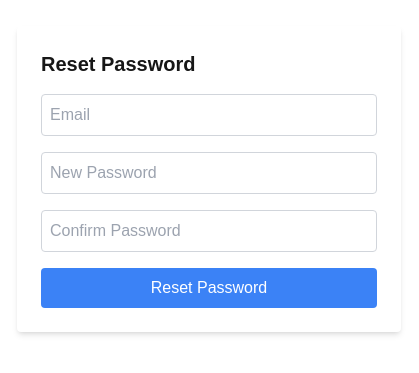
Scenario: ResetPassword Component › displays an error message if reset fails
Type "test@example.com" into the field with placeholder "Email".
click(209, 115); type("test@example.com")  # box [41,94,377,136]
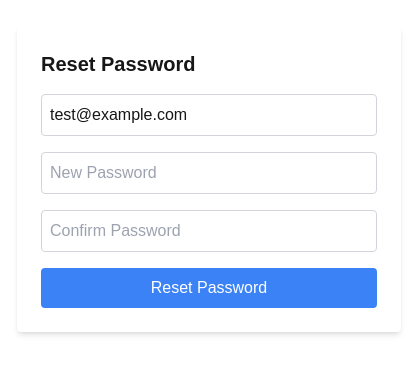
Type "password123" into the password field with placeholder "New Password".
click(209, 173); type("password123")  # box [41,152,377,194]
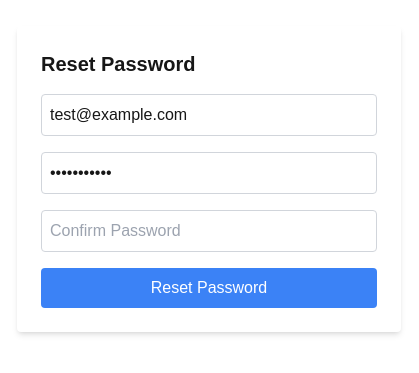
Type "password123" into the password field with placeholder "Confirm Password".
click(209, 231); type("password123")  # box [41,210,377,252]
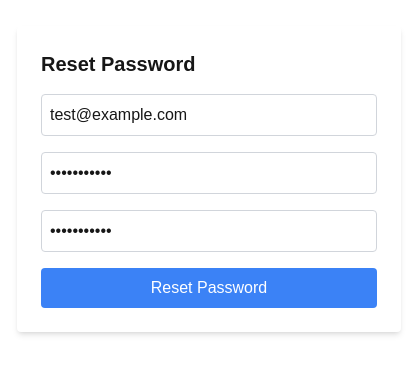
Click the button "Reset Password".
click(209, 288)  # box [41,268,377,308]
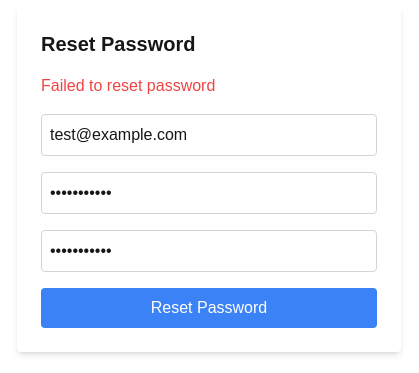
Result: the text "Failed to reset password" is shown at [41,77,215,94]
